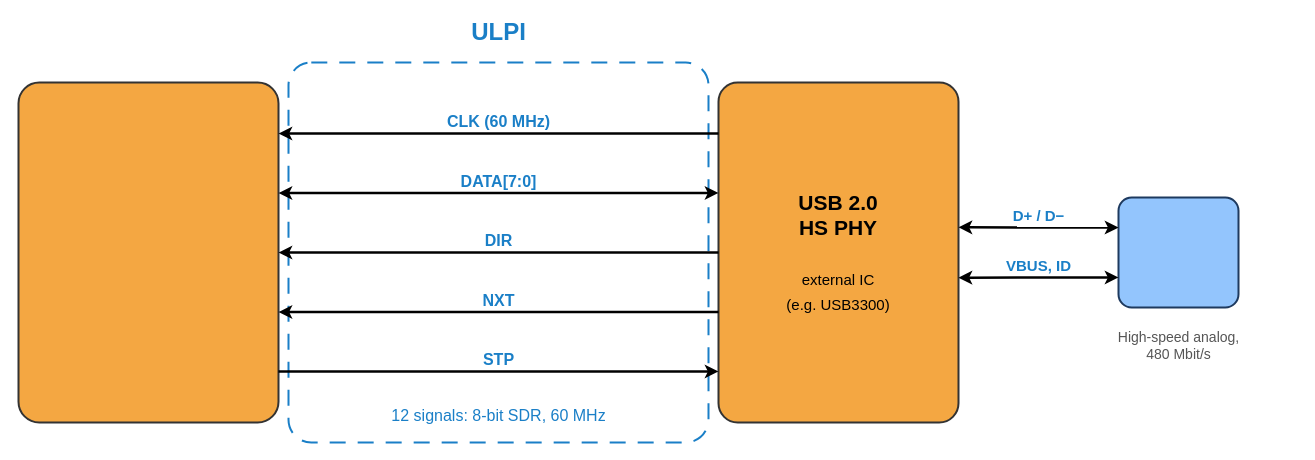
Image size: 1315x460. Some labels were removed from this diagram. Here are the shapes that lost their labels. From the top down, the box of each, then its label:
(17, 81, 279, 423): USB Link Controller inside the MCU / SoC (e.g. STM32H743)
(1117, 196, 1239, 308): USB connector
